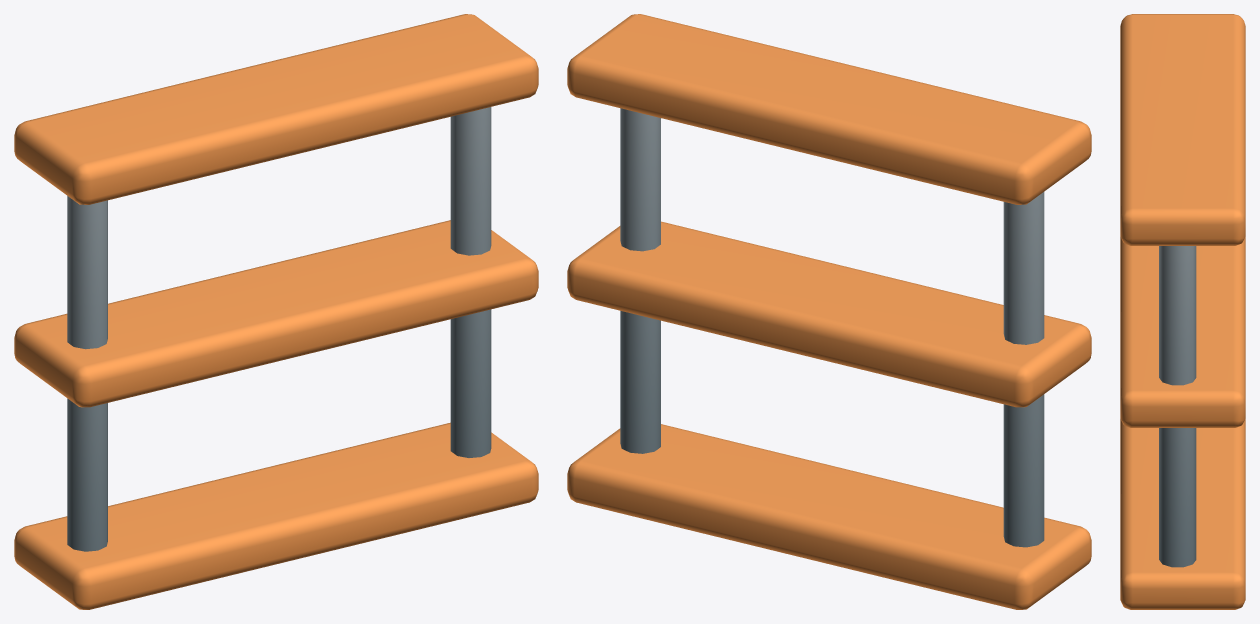
Rendered from Shelf_10.glb.
3 views of the same model, side by side, from view 1: azimuth 30°, elevation 25°; view 2: azimuth 150°, elevation 25°; view 3: azimuth 270°, elevation 25° (orthographic). The views are drawn at different scales.
Parts seen in each view (by area): view 1: Shelf_10; view 2: Shelf_10; view 3: Shelf_10.
Part boxes in pixels (x1,y1,x2,y2): Shelf_10: (14,14,538,609); Shelf_10: (567,14,1091,609); Shelf_10: (1120,14,1245,609).
Size of the model in its own units: 0.96 by 0.8804 by 0.25.
Materials: 1 (1 with a texture image).
